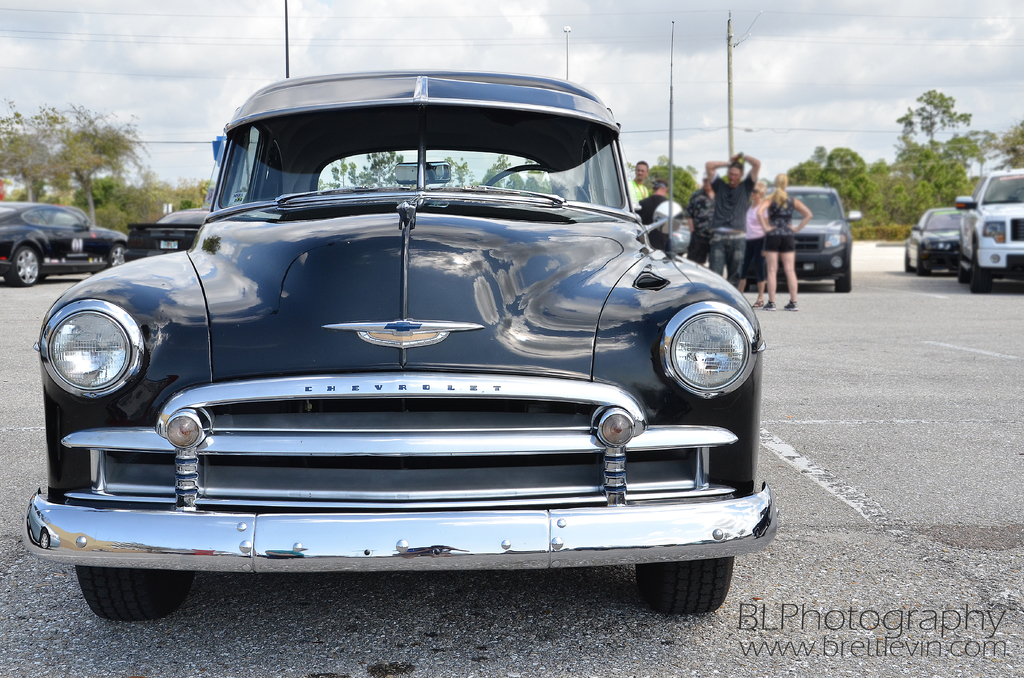person: (683, 169, 718, 267)
